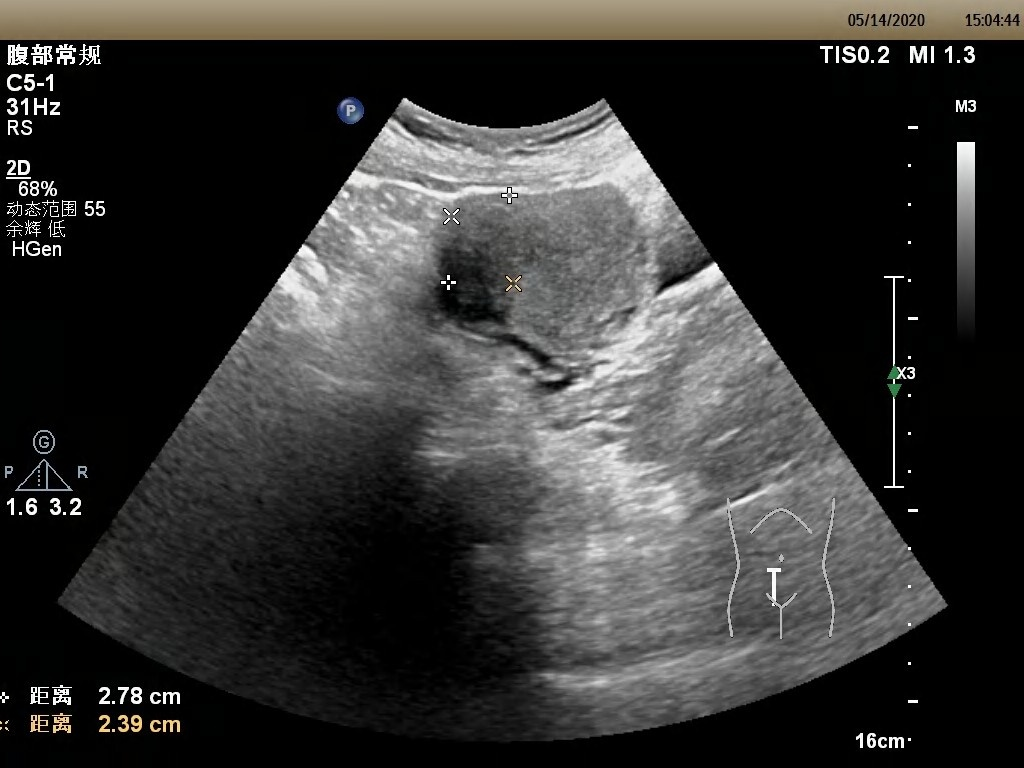肌瘤: (448, 196, 518, 289)
